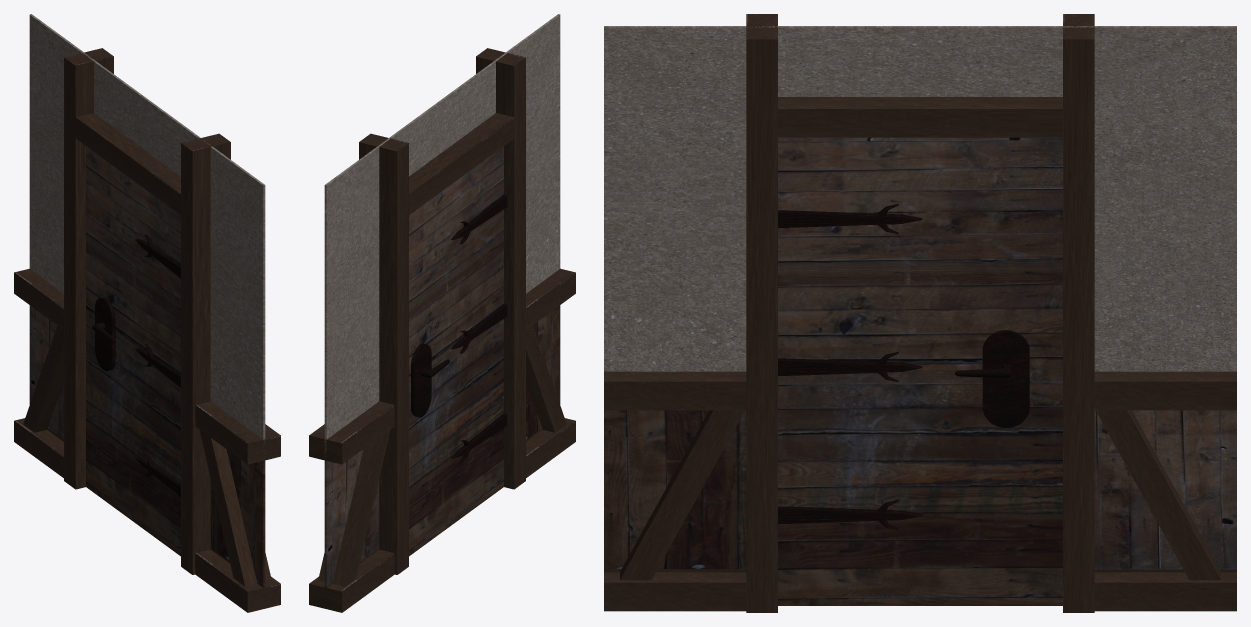
File: OutdoorArchitecture_BasicWall01_Door01_Closed_NoEdges_BShortt.fbx
3 views of the same model, side by side, from view 1: azimuth 30°, elevation 25°; view 2: azimuth 150°, elevation 25°; view 3: azimuth 270°, elevation 25° (orthographic). The views are drawn at different scales.
Visible parts, largest first — view 1: OutdoorArchitecture_BasicWall01_Door01_Closed_NoEdges_BShort; view 2: OutdoorArchitecture_BasicWall01_Door01_Closed_NoEdges_BShort; view 3: OutdoorArchitecture_BasicWall01_Door01_Closed_NoEdges_BShort.
Part boxes in pixels (x1,y1,x2,y2): OutdoorArchitecture_BasicWall01_Door01_Closed_NoEdges_BShort: (14,14,280,612); OutdoorArchitecture_BasicWall01_Door01_Closed_NoEdges_BShort: (309,14,575,612); OutdoorArchitecture_BasicWall01_Door01_Closed_NoEdges_BShort: (604,14,1236,612).
Size of the model in its own units: 33.12 by 300 by 300.
